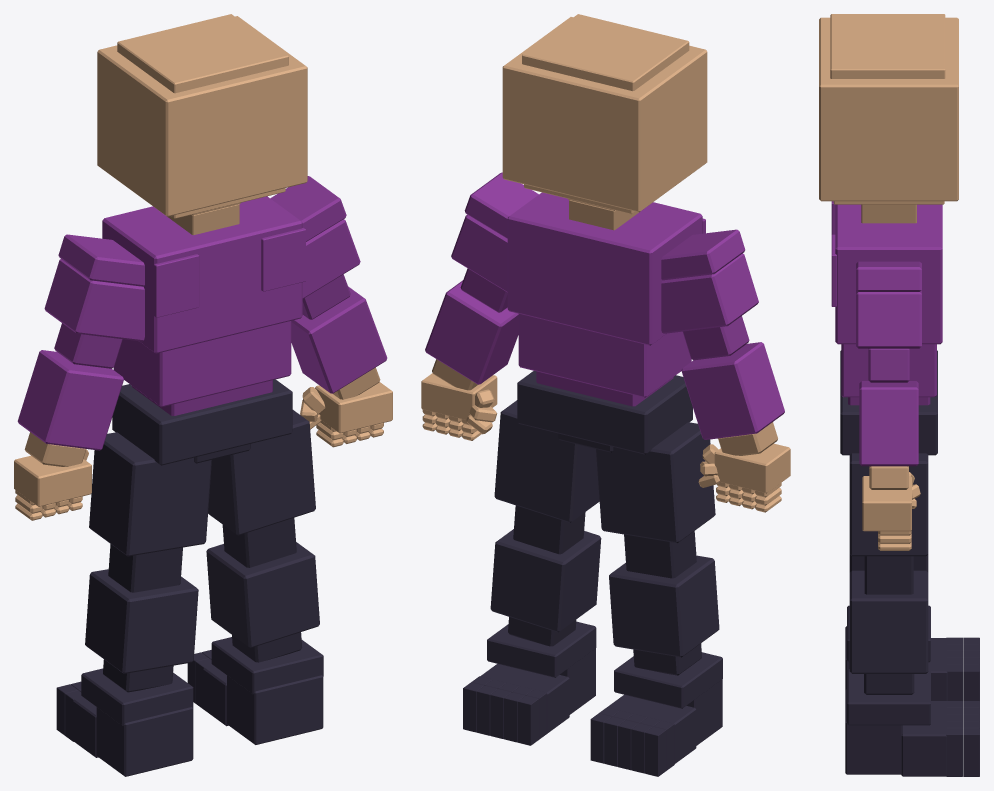
File: npc_vendedor_frutas.glb
3 views of the same model, side by side, from view 1: azimuth 30°, elevation 25°; view 2: azimuth 150°, elevation 25°; view 3: azimuth 270°, elevation 25° (orthographic). The views are drawn at different scales.
Visible parts, largest first — view 1: Geo_Head_Runtime, Geo_Chest_Runtime, Geo_Thigh_L_Runtime, Geo_Abdomen_Runtime, Geo_Shin_L_Runtime, Geo_Pelvis_Runtime, Geo_Shin_R_Runtime, Geo_Thigh_R_Runtime, Geo_HeadTop_Runtime, Geo_ForeArm_L_Runtime, Geo_ForeArm_R_Runtime, Geo_UpperArm_L_Runtime (+23 smaller); view 2: Geo_Head_Runtime, Geo_Chest_Runtime, Geo_Thigh_L_Runtime, Geo_Abdomen_Runtime, Geo_Shin_L_Runtime, Geo_Pelvis_Runtime, Geo_Shin_R_Runtime, Geo_Thigh_R_Runtime, Geo_HeadTop_Runtime, Geo_ForeArm_L_Runtime, Geo_ForeArm_R_Runtime, Geo_UpperArm_L_Runtime (+31 smaller); view 3: Geo_Head_Runtime, Geo_Chest_Runtime, Geo_HeadTop_Runtime, Geo_Shin_R_Runtime, Geo_ForeArm_R_Runtime, Geo_UpperArm_R_Runtime, Geo_Thigh_R_Runtime, Geo_AnkleCuff_R_Runtime, Geo_Heel_R_Runtime, Geo_Foot_R_Runtime, Geo_Abdomen_Runtime, Geo_Pelvis_Runtime (+17 smaller).
Part boxes in pixels (box(x1,y1,x2,y2)): Geo_Head_Runtime: box(97, 16, 307, 216); Geo_Chest_Runtime: box(102, 196, 302, 353); Geo_Thigh_L_Runtime: box(89, 432, 211, 556); Geo_Abdomen_Runtime: box(113, 321, 291, 407); Geo_Shin_L_Runtime: box(85, 569, 198, 673); Geo_Pelvis_Runtime: box(112, 379, 292, 465); Geo_Shin_R_Runtime: box(206, 542, 319, 647); Geo_Thigh_R_Runtime: box(208, 410, 315, 535); Geo_HeadTop_Runtime: box(117, 14, 288, 93); Geo_ForeArm_L_Runtime: box(17, 350, 123, 450); Geo_ForeArm_R_Runtime: box(291, 286, 387, 393); Geo_UpperArm_L_Runtime: box(44, 259, 144, 341); Geo_Head_Runtime: box(502, 17, 707, 212); Geo_Chest_Runtime: box(507, 192, 702, 345); Geo_Thigh_L_Runtime: box(596, 422, 715, 543); Geo_Abdomen_Runtime: box(518, 314, 691, 397); Geo_Shin_L_Runtime: box(609, 555, 719, 657); Geo_Pelvis_Runtime: box(517, 371, 692, 454); Geo_Shin_R_Runtime: box(490, 529, 601, 632); Geo_Thigh_R_Runtime: box(494, 400, 599, 522); Geo_HeadTop_Runtime: box(522, 14, 689, 91); Geo_ForeArm_L_Runtime: box(681, 342, 784, 439); Geo_ForeArm_R_Runtime: box(425, 280, 518, 384); Geo_UpperArm_L_Runtime: box(661, 253, 758, 333); Geo_Head_Runtime: box(819, 17, 958, 201); Geo_Chest_Runtime: box(835, 204, 942, 344); Geo_HeadTop_Runtime: box(830, 14, 945, 78); Geo_Shin_R_Runtime: box(849, 570, 928, 673); Geo_ForeArm_R_Runtime: box(859, 381, 918, 466); Geo_UpperArm_R_Runtime: box(856, 290, 921, 348); Geo_Thigh_R_Runtime: box(849, 453, 928, 556); Geo_AnkleCuff_R_Runtime: box(847, 669, 930, 725); Geo_Heel_R_Runtime: box(845, 689, 902, 774); Geo_Foot_R_Runtime: box(901, 701, 946, 776); Geo_Abdomen_Runtime: box(841, 344, 936, 397); Geo_Pelvis_Runtime: box(840, 350, 937, 455).
Size of the model in its own units: 1.07 by 1.98 by 0.4192.
